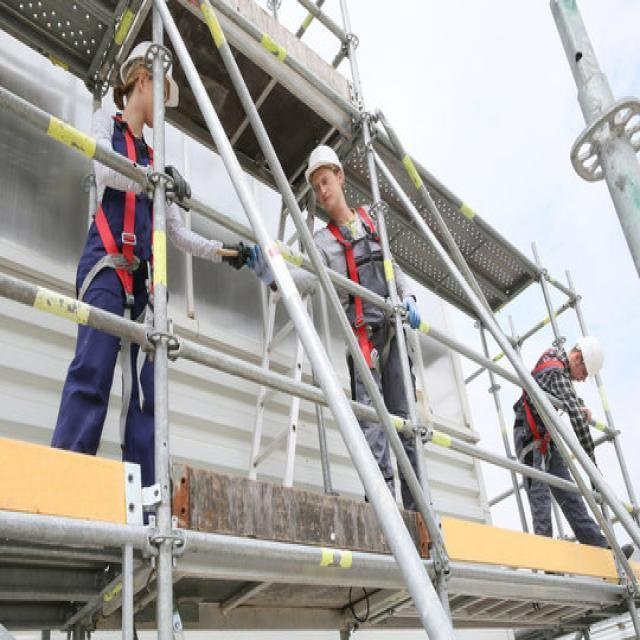Arnes_seguridad: (79, 117, 153, 304), (325, 207, 387, 367), (519, 352, 566, 457)
